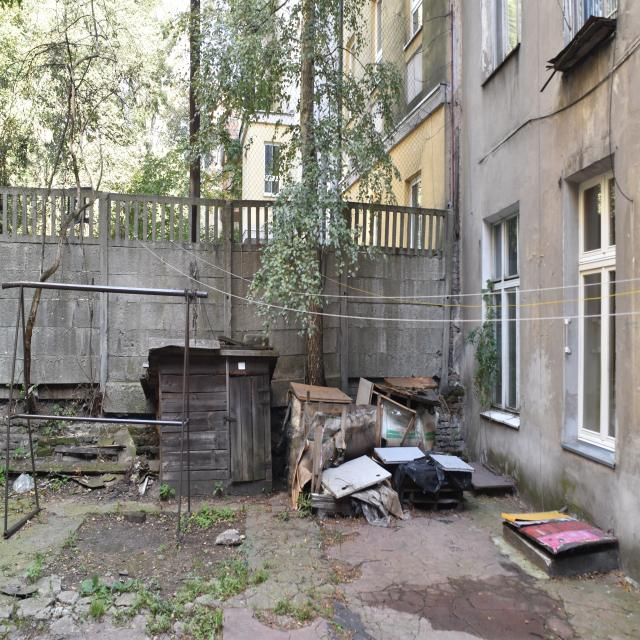entulho: (308, 454, 408, 530), (284, 380, 353, 470), (404, 446, 480, 518), (368, 378, 436, 452), (333, 399, 388, 456)
